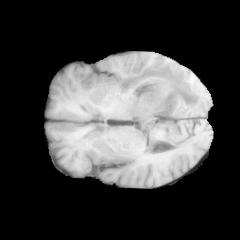glioma: (119, 63, 200, 133)
